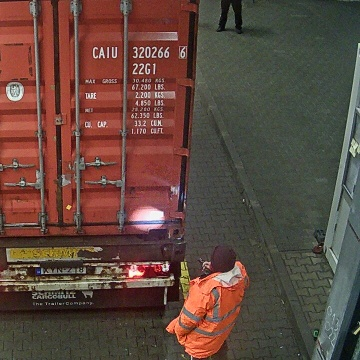serial_id: (92, 46, 186, 58)
